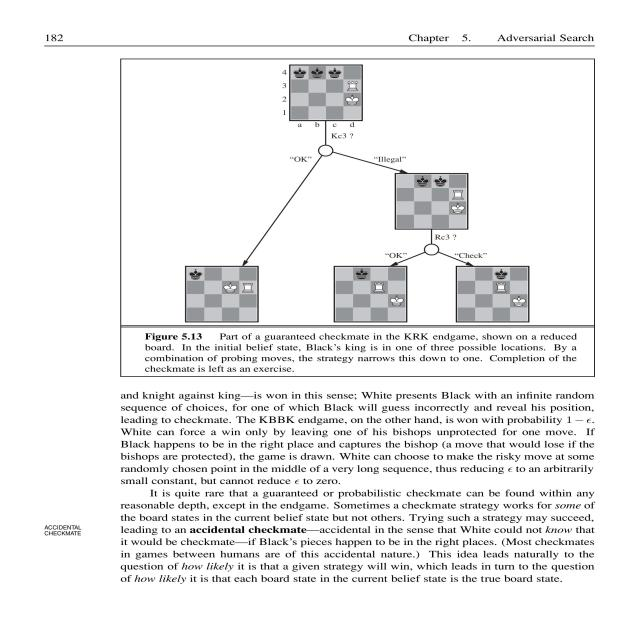diagram: (121, 59, 586, 378)
